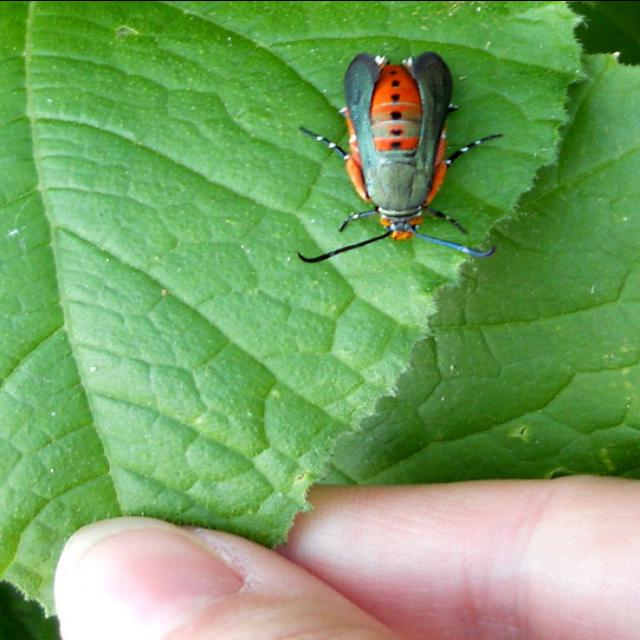squash_vine_borer: (274, 41, 512, 286)
